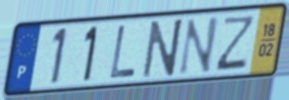1: (48, 26, 70, 88), (82, 25, 100, 84)
L: (107, 24, 138, 81)
N: (141, 16, 186, 81), (176, 15, 221, 78)
Z: (212, 13, 258, 73)
